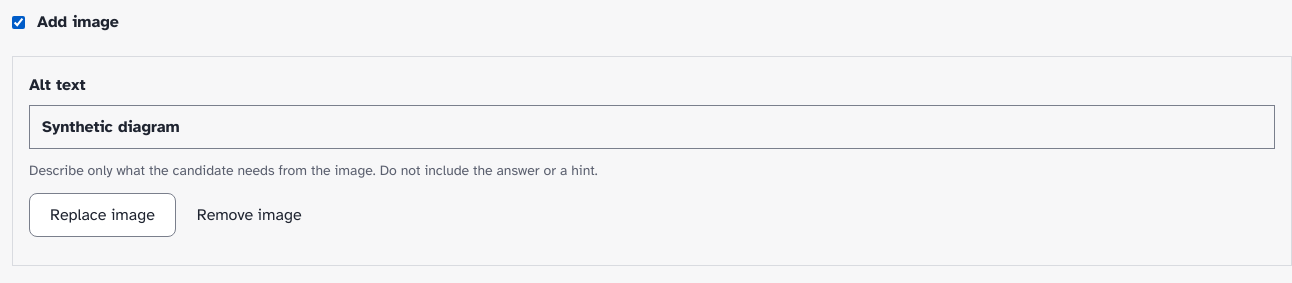
Scenario: QuestionImageField › shows staged-image removal failures as persistent toasts
What coordinates should you click on to do the following:
click the button "Remove image"
I would click on:
 (249, 215)
Its box is [176,193,322,237].
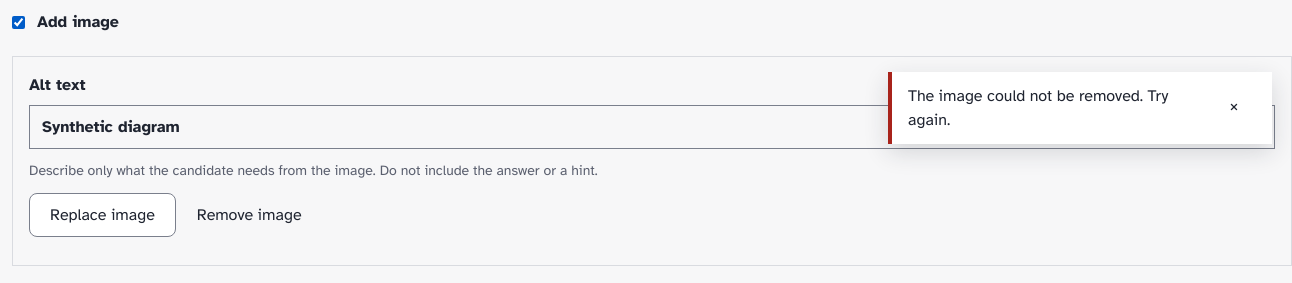
Check: the text "The image could not be removed. Try again." is shown, box [908,84,1200,132]
